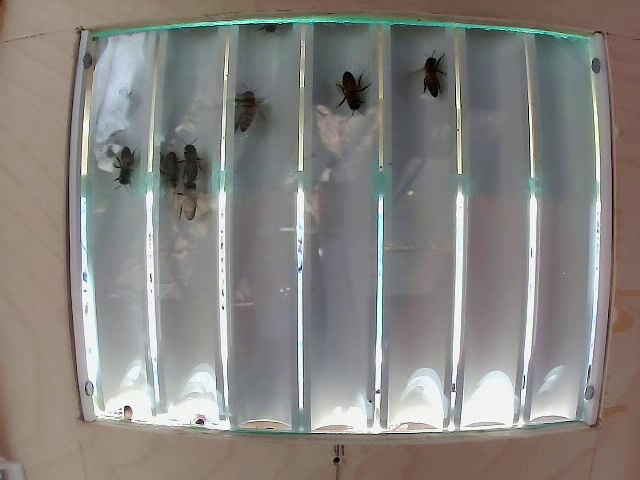bee: (173, 133, 211, 191), (111, 138, 142, 193), (340, 72, 374, 121), (410, 56, 443, 104), (229, 91, 267, 132), (169, 177, 208, 211), (158, 143, 188, 184)
